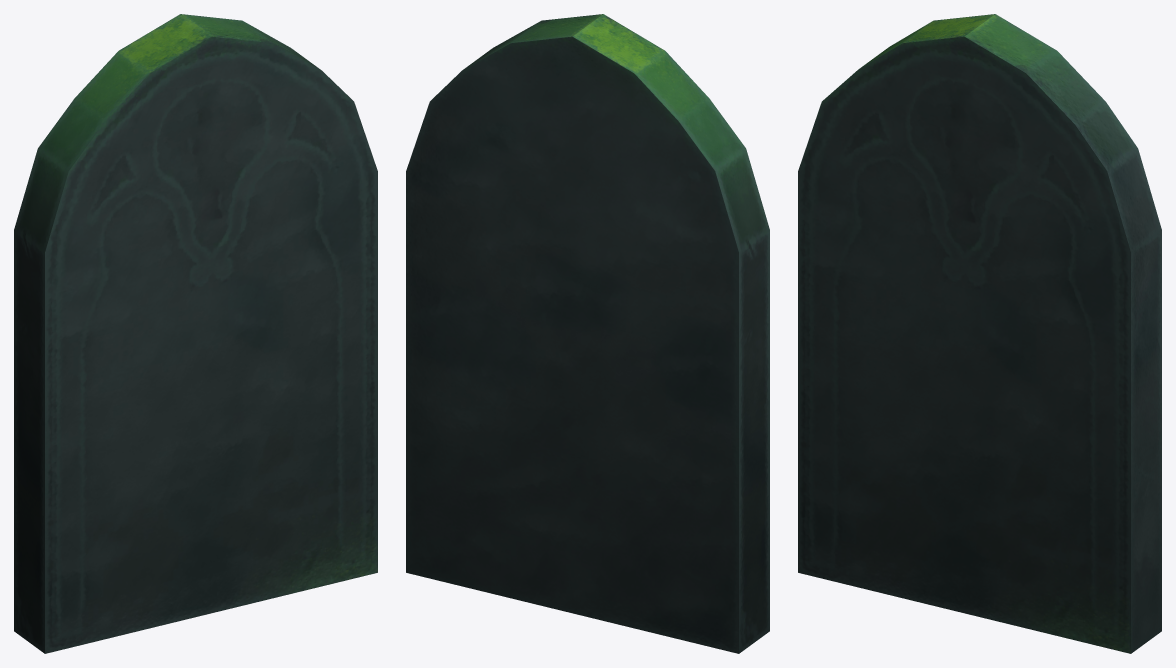
The model's file is Tomb.fbx.
3 views of the same model, side by side, from view 1: azimuth 30°, elevation 25°; view 2: azimuth 150°, elevation 25°; view 3: azimuth 330°, elevation 25° (orthographic).
Parts seen in each view (by area): view 1: tumulo_01_low; view 2: tumulo_01_low; view 3: tumulo_01_low.
Part boxes in pixels (x1,y1,x2,y2): tumulo_01_low: (14,14,377,653); tumulo_01_low: (406,14,769,653); tumulo_01_low: (798,14,1161,653).
Bounding box in the file's own units: 75.46 × 125 × 12.16.
